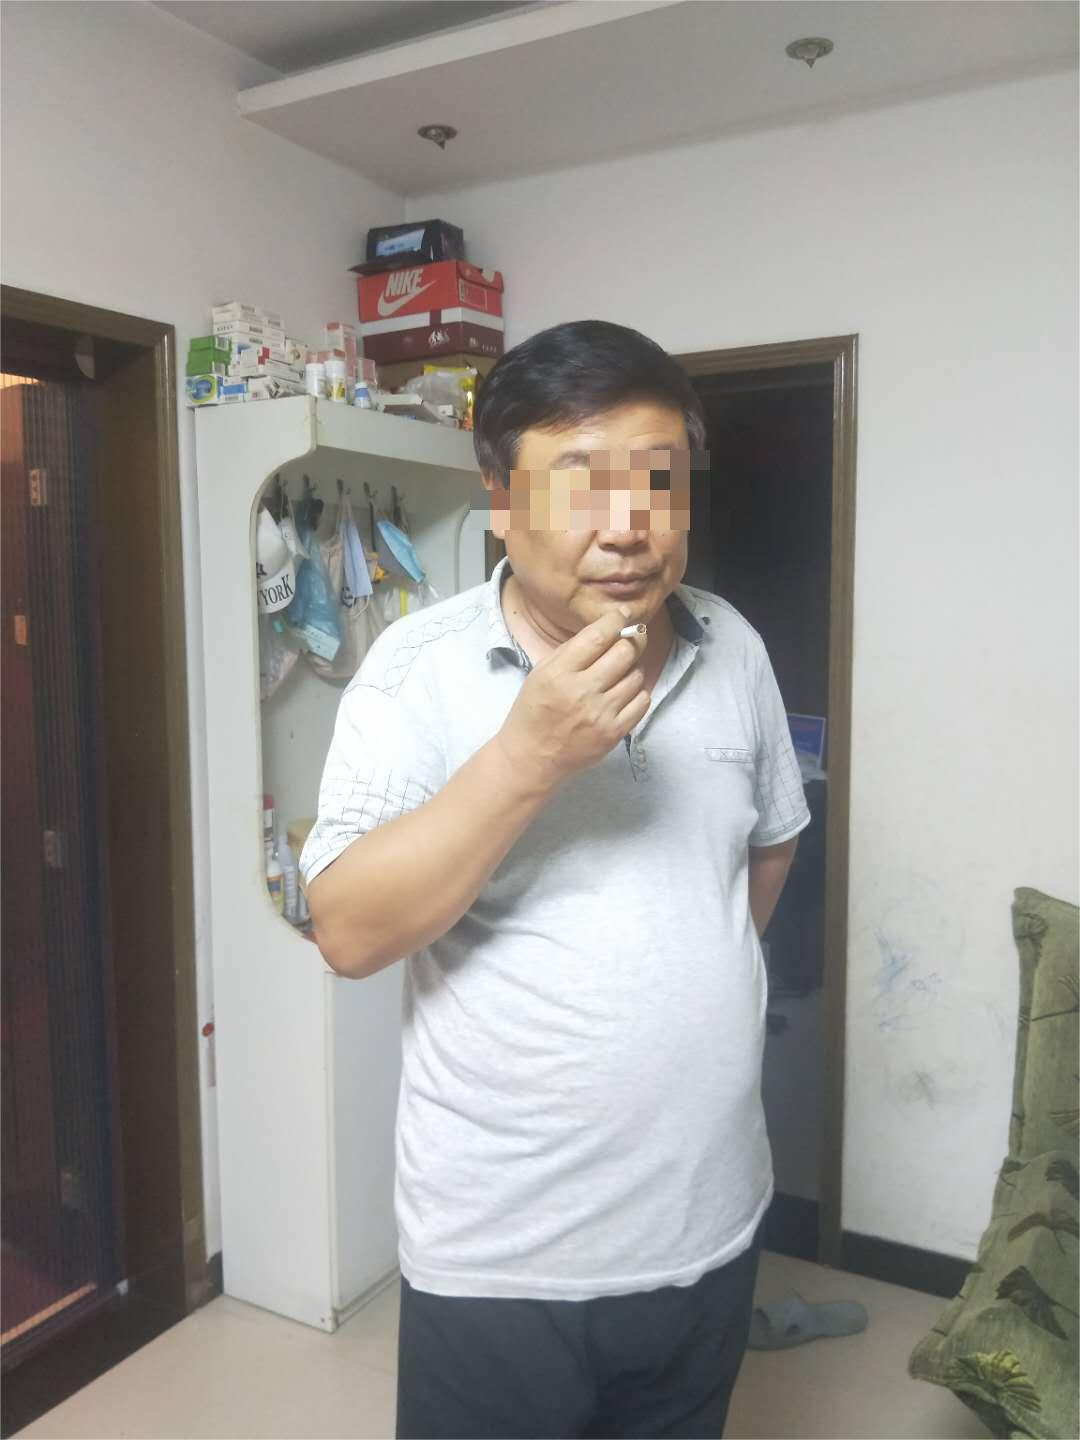smoke: (619, 618, 649, 642)
